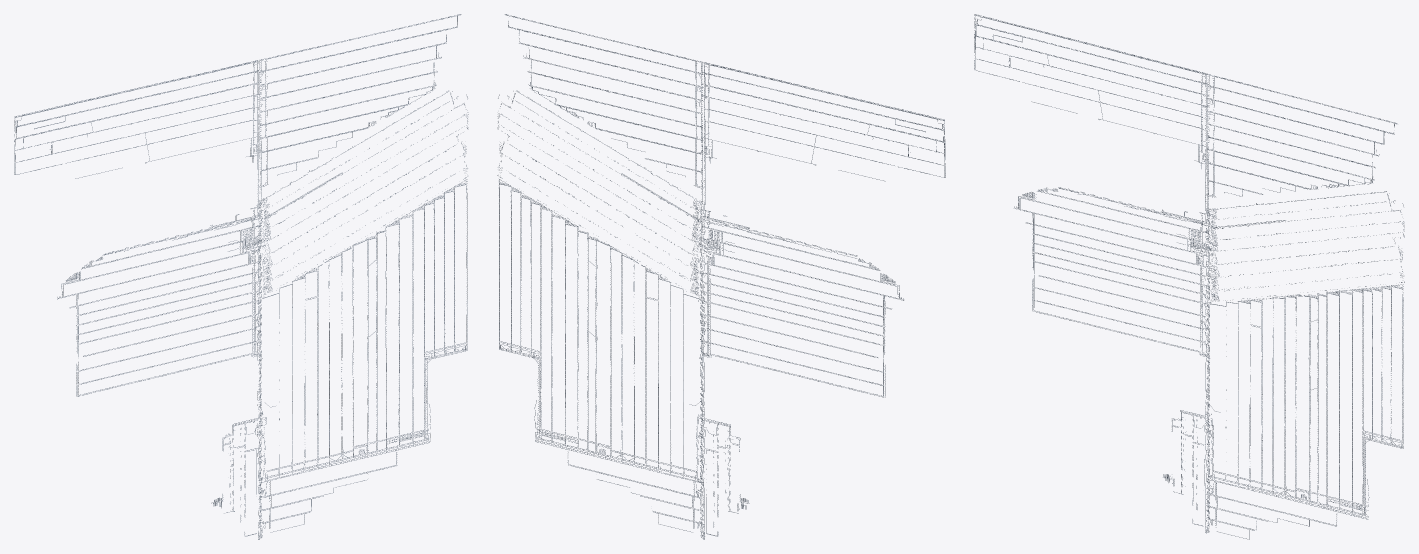
File: roadways.glb
3 renders of one model, left to right at view 1: azimuth 30°, elevation 25°; view 2: azimuth 150°, elevation 25°; view 3: azimuth 330°, elevation 25°, orthographic. The views are drawn at different scales.
Parts seen in each view (by area): view 1: world; view 2: world; view 3: world.
Part boxes in pixels (x1=…): world: x1=14, y1=14, x2=468, y2=539; world: x1=497, y1=14, x2=945, y2=539; world: x1=974, y1=14, x2=1404, y2=539.
Size of the model in its own units: 12237 by 12465 by 275.
